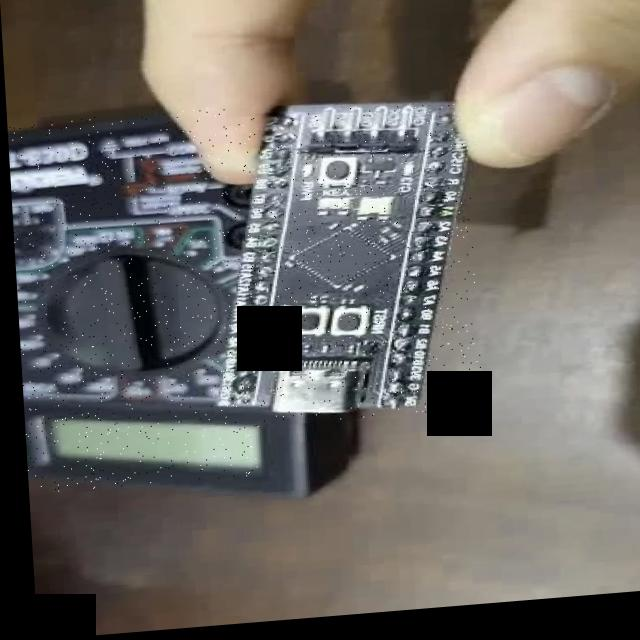multimeter: (6, 109, 252, 494)
stm32: (213, 107, 477, 433)
